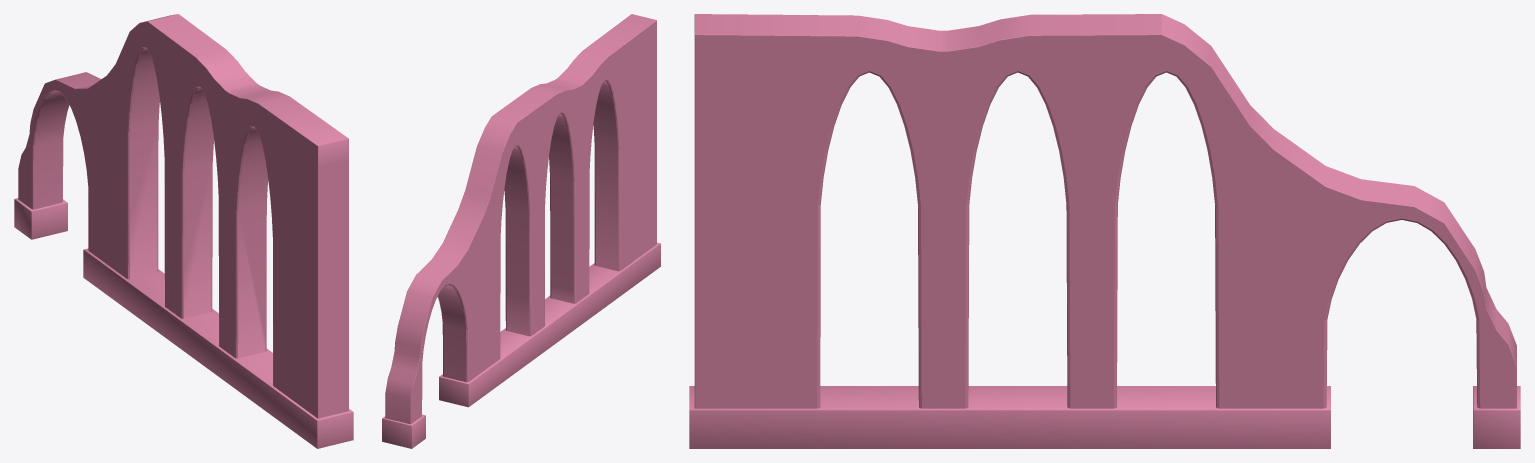
The model's file is ruiny_sciana.fbx.
The picture shows the model from 3 angles, left to right: view 1: azimuth 30°, elevation 25°; view 2: azimuth 150°, elevation 25°; view 3: azimuth 270°, elevation 25°; orthographic projection. The views are drawn at different scales.
Visible parts, largest first — view 1: ruiny_sciana; view 2: ruiny_sciana; view 3: ruiny_sciana.
Boxes of the visible parts, left/top/right/bottom form: ruiny_sciana: left=14, top=14, right=353, bottom=448; ruiny_sciana: left=382, top=14, right=660, bottom=448; ruiny_sciana: left=689, top=14, right=1520, bottom=448.
Bounding box in the file's own units: 35.9 × 284 × 518.
